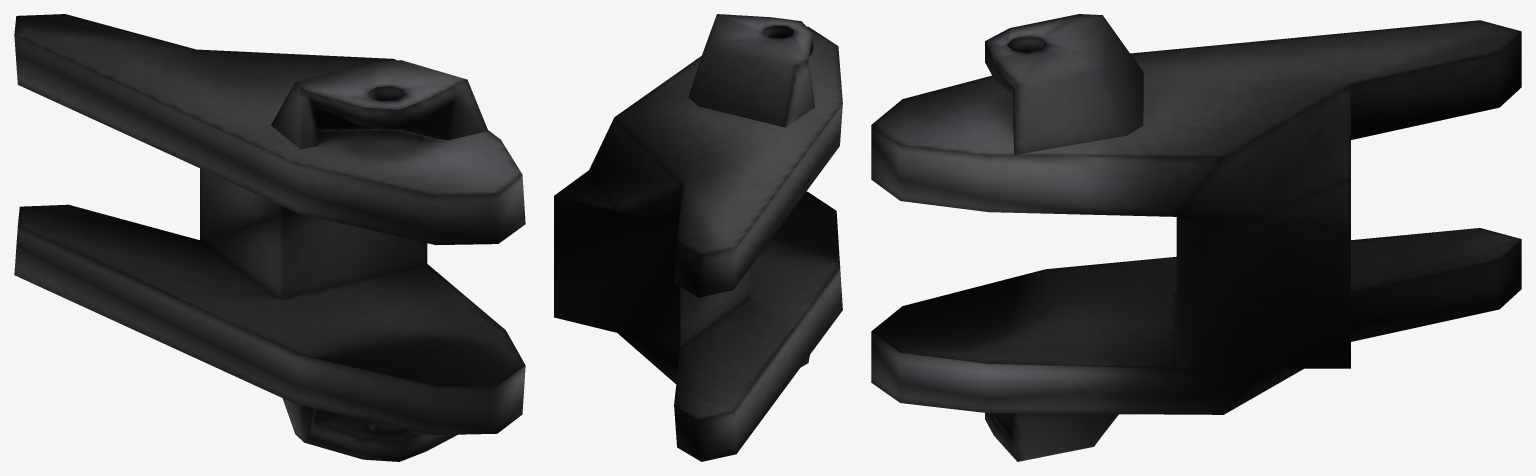
The model's file is ltorso.dae.
3 views of the same model, side by side, from view 1: azimuth 30°, elevation 25°; view 2: azimuth 150°, elevation 25°; view 3: azimuth 270°, elevation 25° (orthographic). The views are drawn at different scales.
Parts seen in each view (by area): view 1: ltorso; view 2: ltorso; view 3: ltorso.
Part boxes in pixels (x1,y1,x2,y2): ltorso: [14, 14, 525, 461]; ltorso: [554, 14, 842, 461]; ltorso: [871, 14, 1521, 461].
Bounding box in the file's own units: 0.078 × 0.0965 × 0.1504.
1 material, 1 textured.
